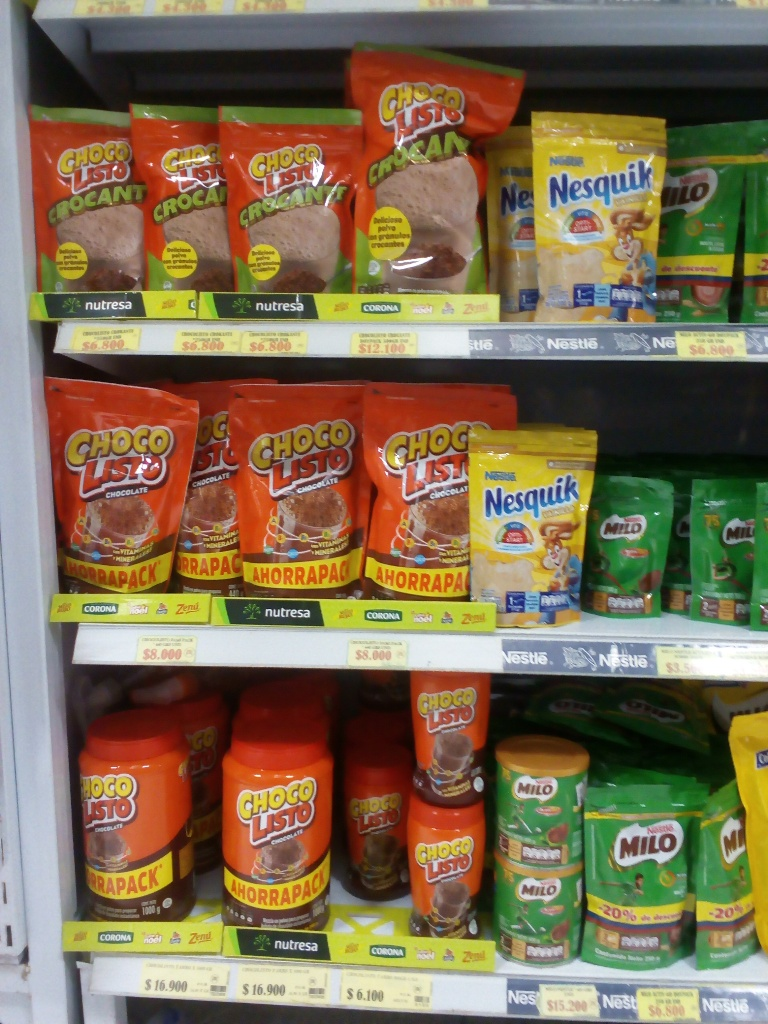COL0170102DYP25000: (32, 109, 148, 286)
COL0170102DYP50000: (346, 44, 512, 294)
COL0170103DYP44000: (42, 372, 186, 599)
COL0170103TRR00100: (78, 715, 195, 921)
COL0170103TRR30000: (344, 745, 406, 902)
COL0170203DYP10000: (585, 466, 674, 618)
COL0170203LAT40000: (488, 741, 588, 863)
COL0170306DYP20000: (530, 105, 662, 324)
